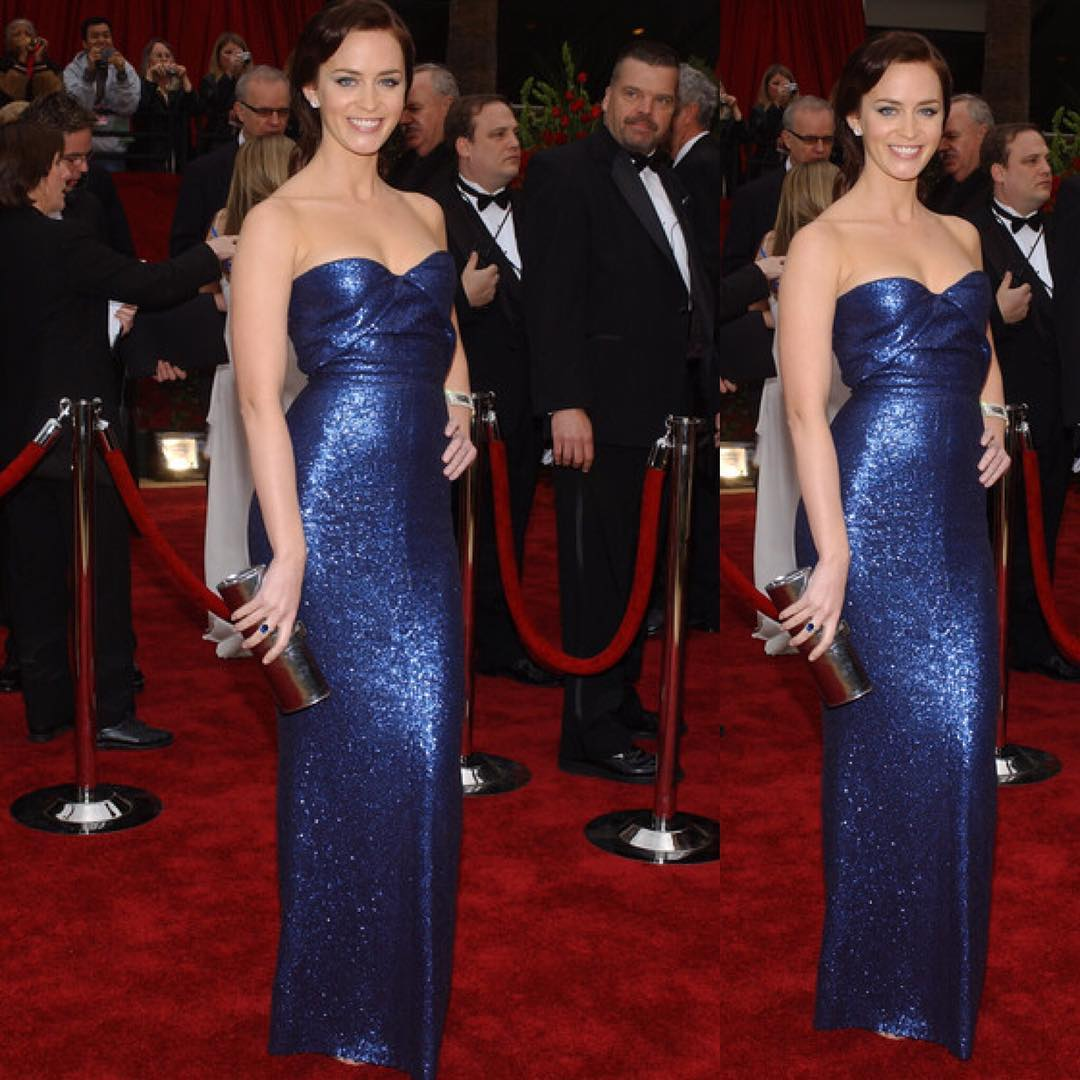hand: (234, 563, 295, 658)
